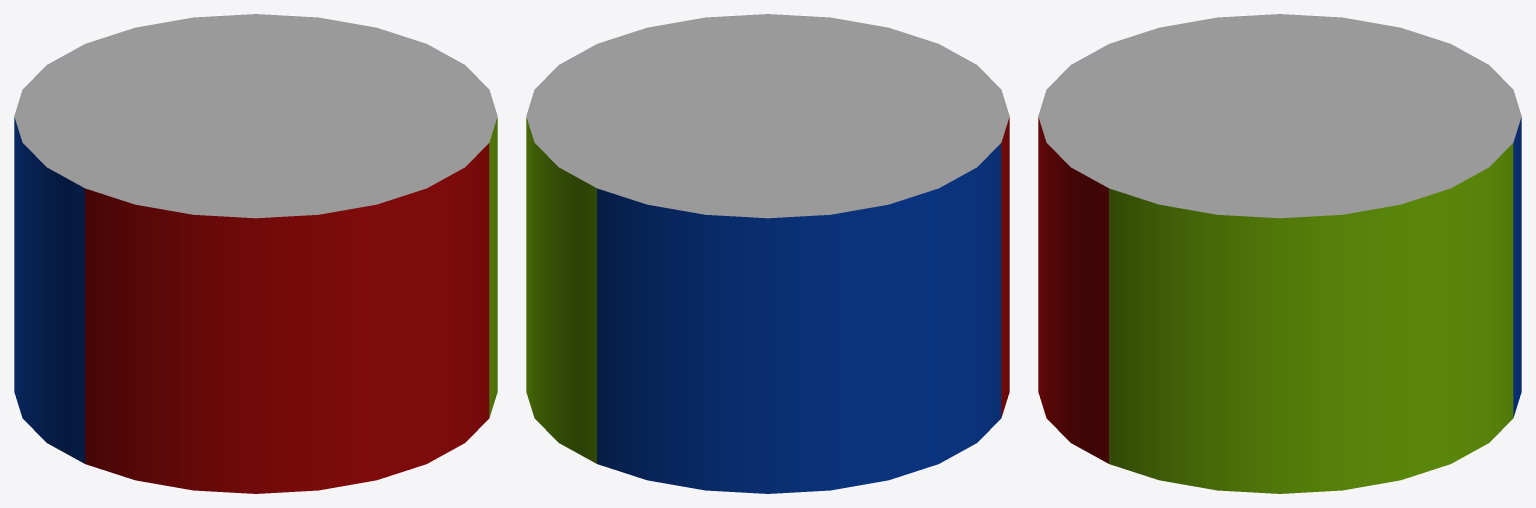
3 views of the same model, side by side, from view 1: azimuth 30°, elevation 25°; view 2: azimuth 150°, elevation 25°; view 3: azimuth 270°, elevation 25° (orthographic).
Visible parts, largest first — view 1: Cylinder1; view 2: Cylinder1; view 3: Cylinder1.
Boxes of the visible parts, x1=… form: Cylinder1: x1=14, y1=14, x2=497, y2=493; Cylinder1: x1=526, y1=14, x2=1009, y2=493; Cylinder1: x1=1038, y1=14, x2=1521, y2=493.
Bounding box in the file's own units: 223 × 140 × 223.
